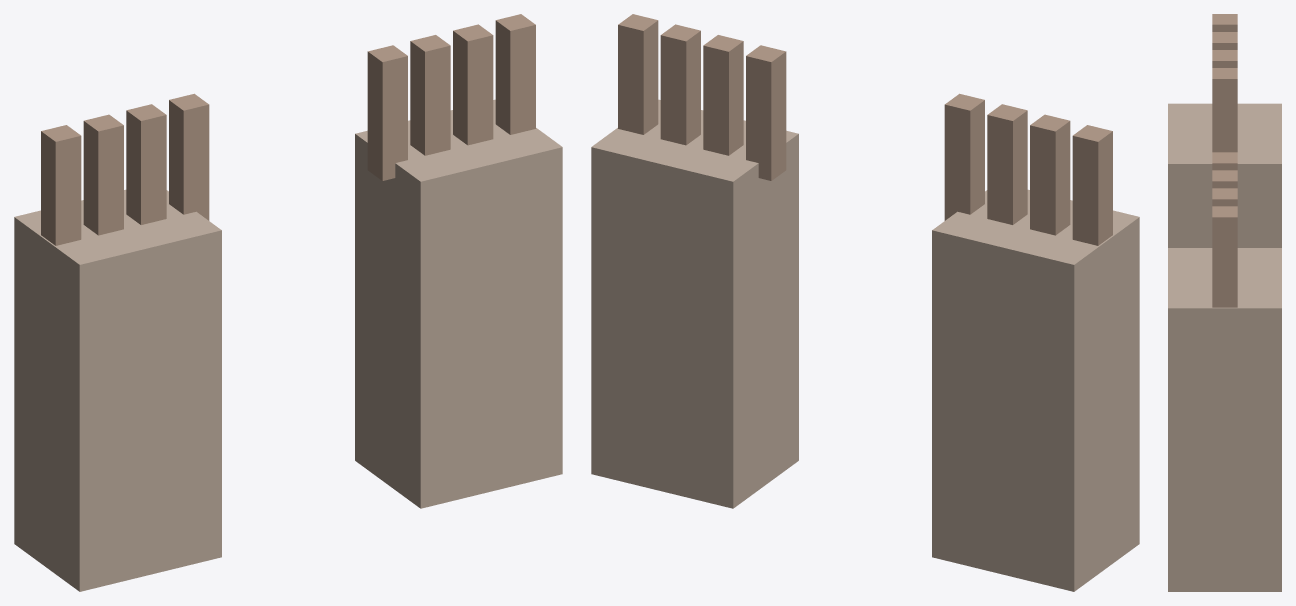
The model's file is fps_two_hands.glb.
3 views of the same model, side by side, from view 1: azimuth 30°, elevation 25°; view 2: azimuth 150°, elevation 25°; view 3: azimuth 270°, elevation 25° (orthographic). The views are drawn at different scales.
Visible parts, largest first — view 1: geometry_0; view 2: geometry_0; view 3: geometry_0.
Boxes of the visible parts, x1,y1,x2,y2 form: geometry_0: (14,14,562,591); geometry_0: (591,14,1139,591); geometry_0: (1168,14,1281,591).
Size of the model in its own units: 0.34 by 0.29 by 0.08.
